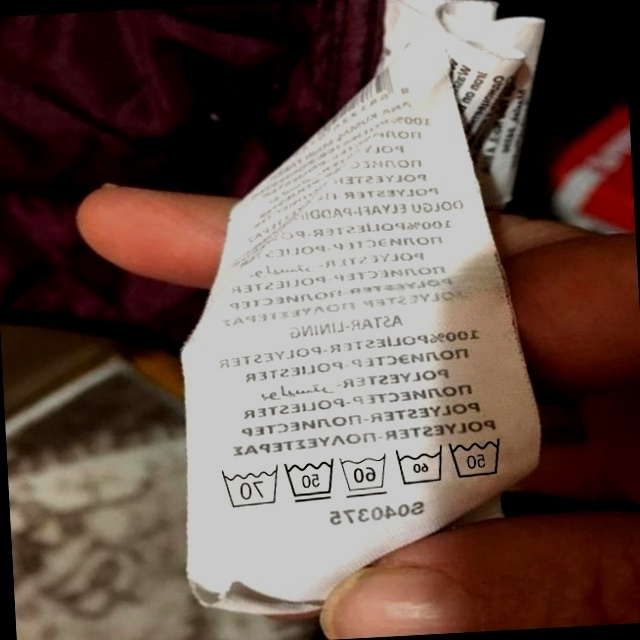50C: (444, 430, 509, 483), (280, 454, 339, 506)
60C: (335, 449, 391, 499), (391, 442, 447, 490)
70C: (215, 462, 281, 511)
